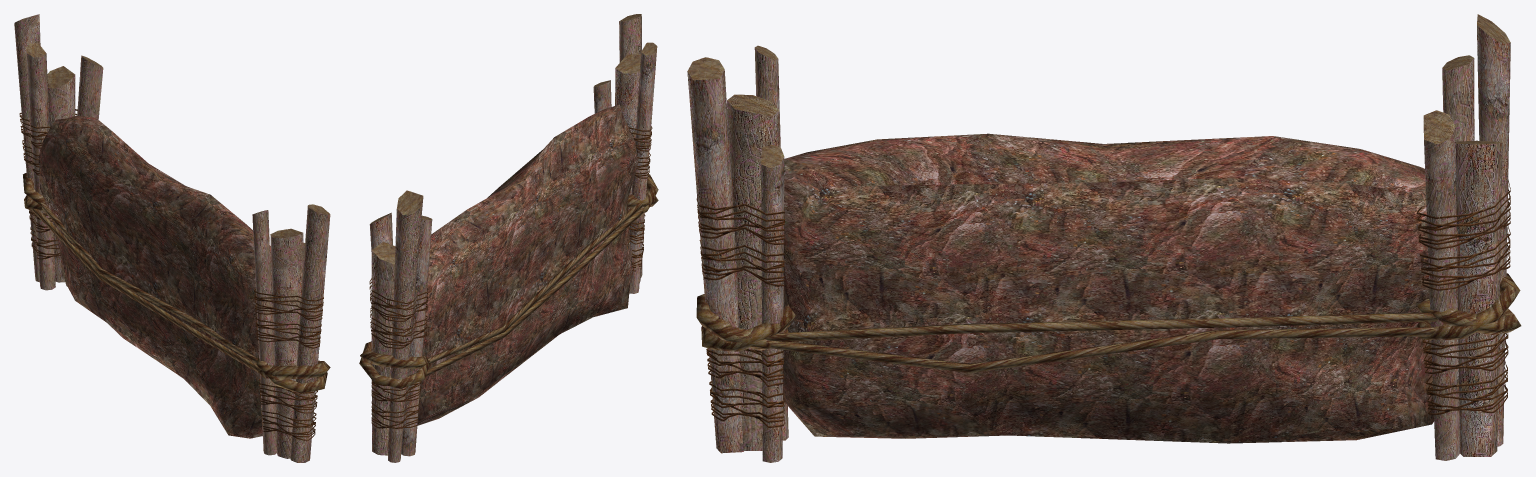
The model's file is thm_dath_night_sister_fence_s01_l1.fbx.
The picture shows the model from 3 angles, left to right: view 1: azimuth 30°, elevation 25°; view 2: azimuth 150°, elevation 25°; view 3: azimuth 270°, elevation 25°; orthographic projection. The views are drawn at different scales.
Visible parts, largest first — view 1: mesh_node; view 2: mesh_node; view 3: mesh_node.
Part boxes in pixels (x1=…): mesh_node: x1=14, y1=14, x2=330, y2=462; mesh_node: x1=359, y1=14, x2=658, y2=462; mesh_node: x1=687, y1=14, x2=1521, y2=462.
Bounding box in the file's own units: 1.32 × 4.88 × 8.93.
